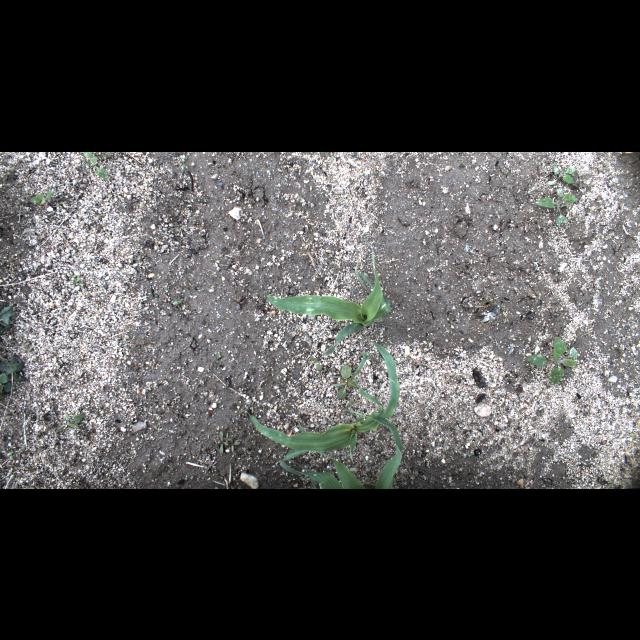crop: (247, 336, 401, 462), (265, 246, 391, 354), (280, 412, 402, 488)
weed: (526, 336, 578, 386), (534, 188, 578, 228), (0, 354, 26, 400), (332, 364, 358, 400), (83, 152, 109, 178), (56, 411, 86, 433), (544, 164, 576, 183), (1, 302, 16, 332), (30, 190, 54, 202), (218, 431, 228, 454), (341, 398, 355, 414), (226, 438, 240, 452), (232, 294, 244, 310), (69, 274, 83, 286), (310, 356, 322, 370), (606, 480, 618, 488), (173, 296, 184, 304), (224, 433, 232, 443), (180, 154, 186, 160), (9, 451, 13, 459), (217, 350, 221, 358), (630, 434, 634, 438)
